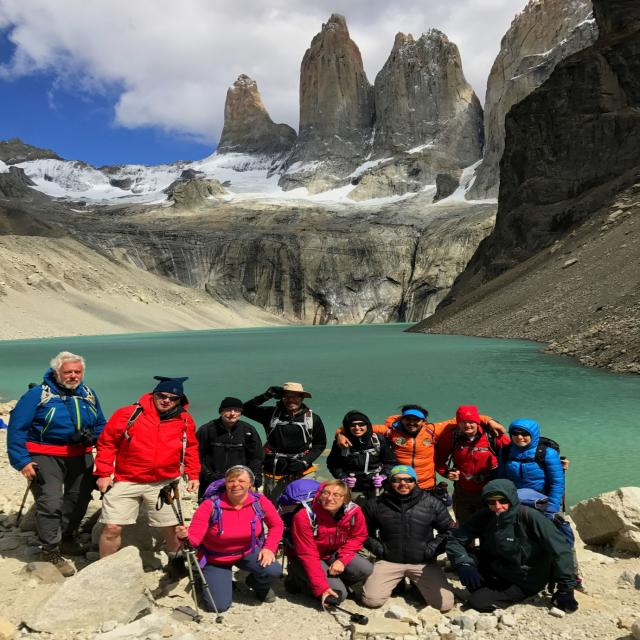body: (3, 349, 112, 577), (95, 375, 202, 561), (445, 478, 579, 614), (172, 463, 287, 617), (434, 404, 571, 528), (333, 404, 507, 496), (360, 464, 458, 612), (274, 478, 378, 610), (240, 382, 328, 510), (193, 397, 264, 504), (495, 418, 566, 521), (325, 411, 398, 504), (429, 481, 453, 507)
